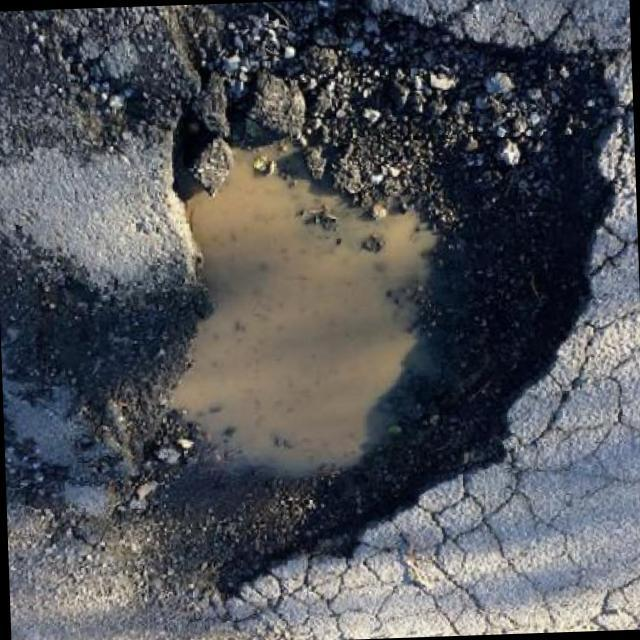pothole: (70, 0, 640, 613)
